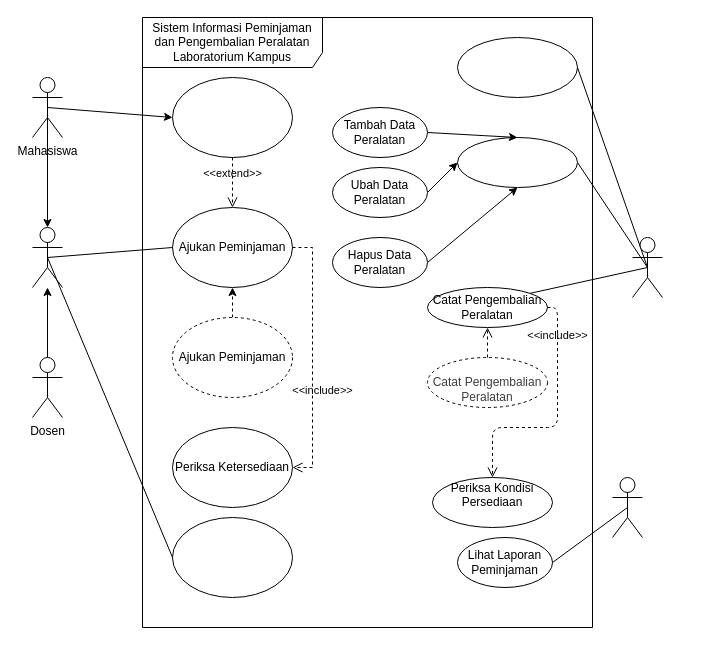
Image size: 708x645. Some labels were removed from this diagram. The shapes that lost their labels are listed below. From the top down, each one's box as (x1, y1, x2, y2) in pixels, then its label:
(456, 36, 578, 98): Proses Kepurtusan Peminjaman
(172, 76, 292, 158): Cetak Bukti Pengajuan
(456, 136, 578, 188): Kelola Data Peralatan
(32, 226, 62, 288): Peminjam
(632, 236, 662, 298): Petugas laporan
(612, 476, 642, 538): Kepala Laboratorium
(172, 516, 292, 598): Lihat Ketersediaan Peralatan
